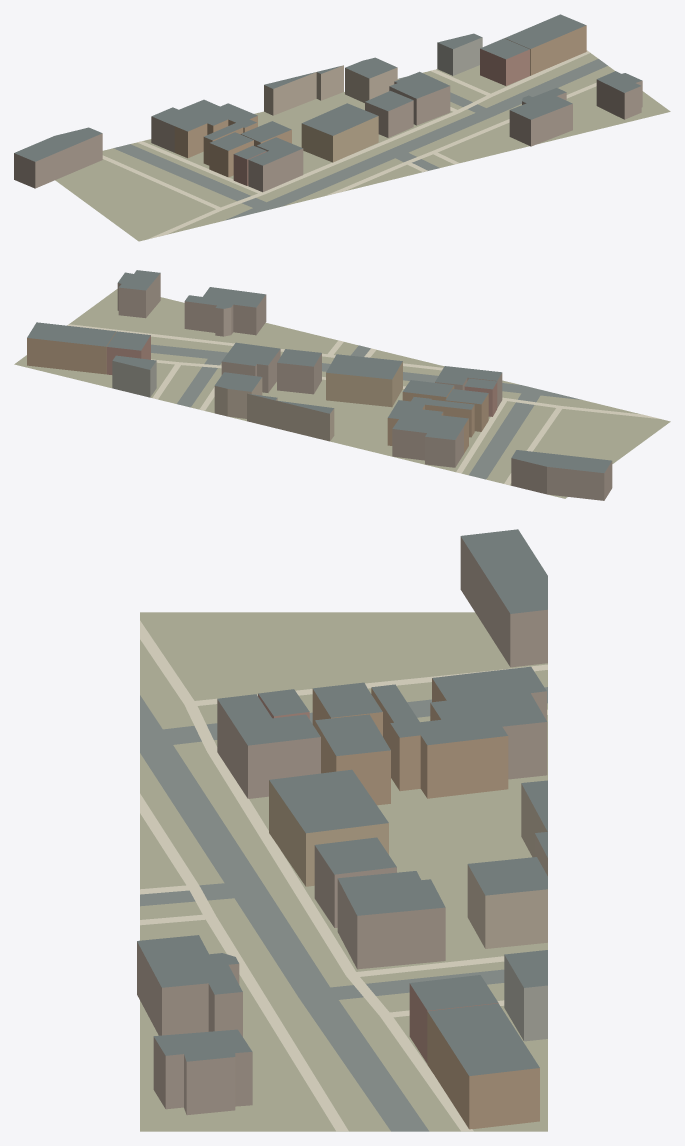
File: sector--1_-8.glb
The picture shows the model from 3 angles, top to bottom: view 1: azimuth 30°, elevation 25°; view 2: azimuth 150°, elevation 25°; view 3: azimuth 270°, elevation 25°; orthographic projection. The views are drawn at different scales.
Visible parts, largest first — view 1: -1:-8-ground, -1:-8-facade, -1:-8-roof, -1:-8-road, -1:-8-paving; view 2: -1:-8-facade, -1:-8-ground, -1:-8-roof, -1:-8-road, -1:-8-paving; view 3: -1:-8-ground, -1:-8-facade, -1:-8-roof, -1:-8-road, -1:-8-paving.
Boxes of the visible parts, x1=… form: -1:-8-ground: x1=55, y1=53, x2=670, y2=241; -1:-8-facade: x1=14, y1=25, x2=642, y2=192; -1:-8-roof: x1=14, y1=14, x2=641, y2=165; -1:-8-road: x1=113, y1=59, x2=607, y2=220; -1:-8-paving: x1=102, y1=50, x2=596, y2=238; -1:-8-facade: x1=27, y1=273, x2=612, y2=500; -1:-8-ground: x1=14, y1=289, x2=670, y2=498; -1:-8-roof: x1=27, y1=270, x2=611, y2=472; -1:-8-road: x1=151, y1=344, x2=581, y2=479; -1:-8-paving: x1=67, y1=324, x2=661, y2=484; -1:-8-ground: x1=140, y1=612, x2=547, y2=1131; -1:-8-facade: x1=137, y1=536, x2=547, y2=1129; -1:-8-roof: x1=137, y1=529, x2=547, y2=1075; -1:-8-road: x1=140, y1=687, x2=547, y2=1131; -1:-8-paving: x1=140, y1=620, x2=547, y2=1131.
Bounding box in the file's own units: 211 × 9.6 × 66.93.
